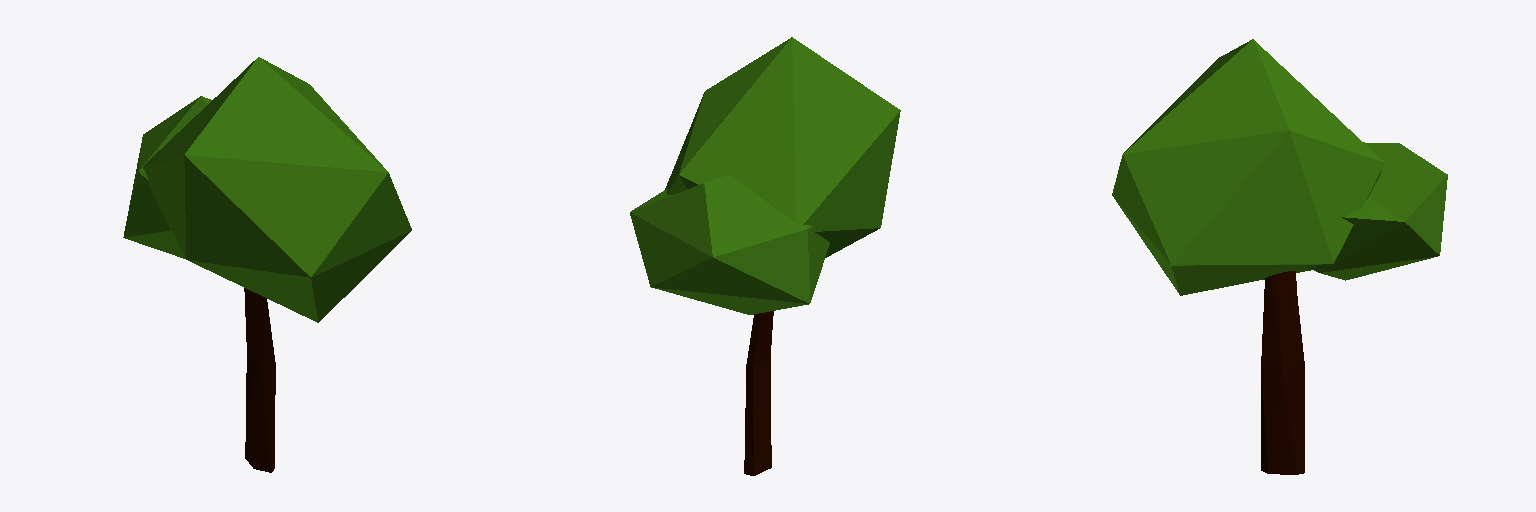
The model's file is trees2.obj.
3 views of the same model, side by side, from view 1: azimuth 30°, elevation 25°; view 2: azimuth 150°, elevation 25°; view 3: azimuth 270°, elevation 25° (orthographic).
Parts seen in each view (by area): view 1: leaves1, trunk, leaves2; view 2: leaves1, leaves2, trunk; view 3: leaves1, leaves2, trunk.
Boxes of the visible parts, box(x1,y1,x2,y2) form: leaves1: box(143, 57, 411, 322); trunk: box(244, 288, 275, 472); leaves2: box(123, 96, 211, 258); leaves1: box(665, 37, 900, 257); leaves2: box(630, 175, 829, 314); trunk: box(744, 311, 773, 475); leaves1: box(1112, 39, 1384, 295); leaves2: box(1305, 142, 1447, 280); trunk: box(1261, 271, 1304, 474).
Size of the model in its own units: 4.06 by 8.03 by 5.78.